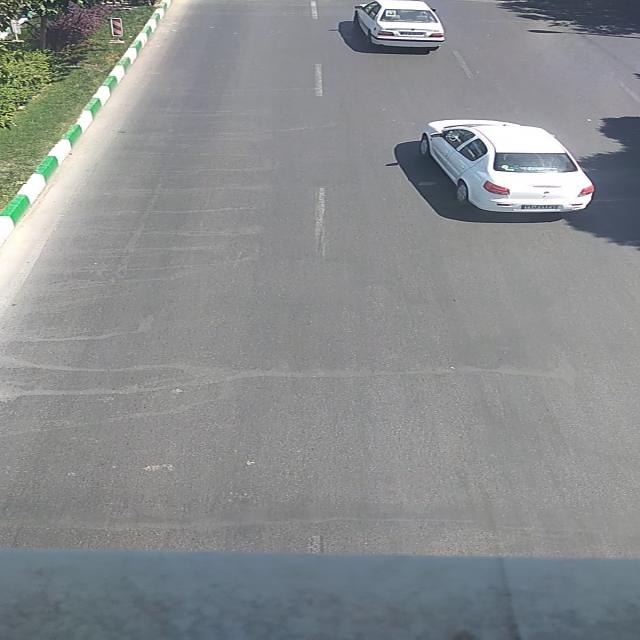car: (418, 120, 596, 213), (350, 1, 446, 50)
